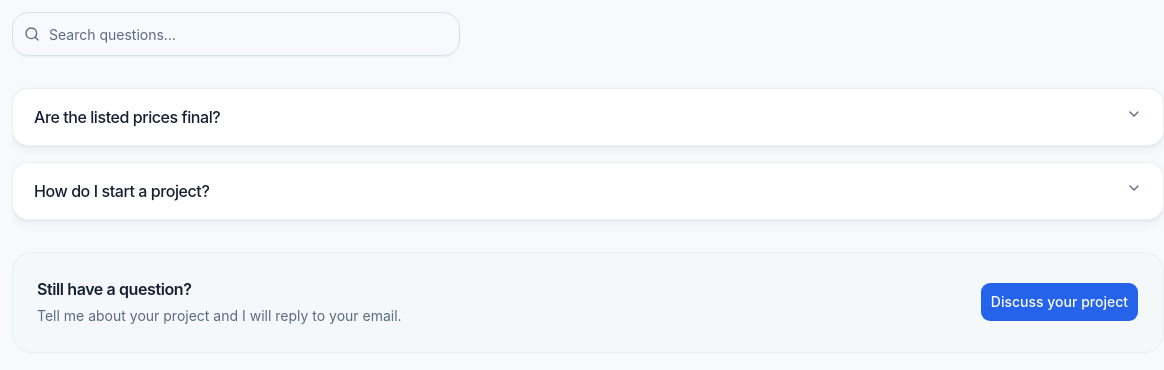
FaqAccordion › filters questions by search text
Type "start a project" into the search field named "search frequently asked questions".
click(236, 34); type("start a project")  # box [12,12,460,56]
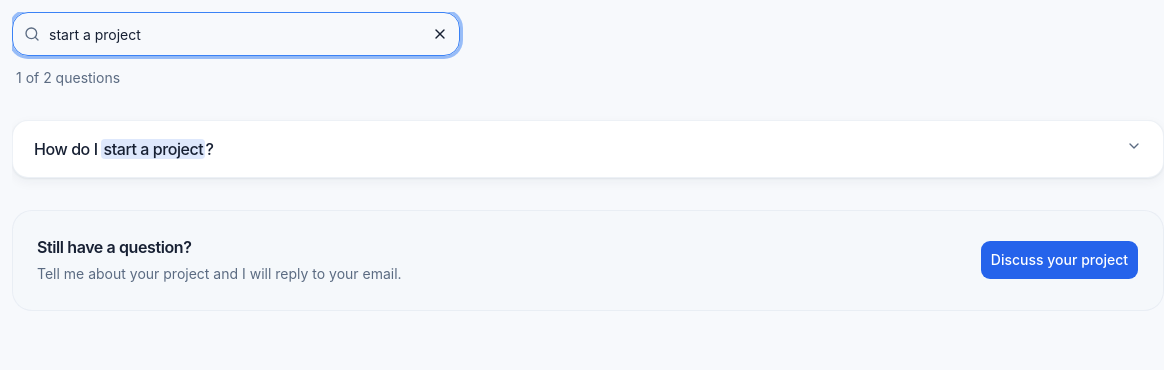
Check: the button "How do I start a project?" is shown, box [33,121,1143,177]
Check: the button "Are the listed prices final?" is gone
